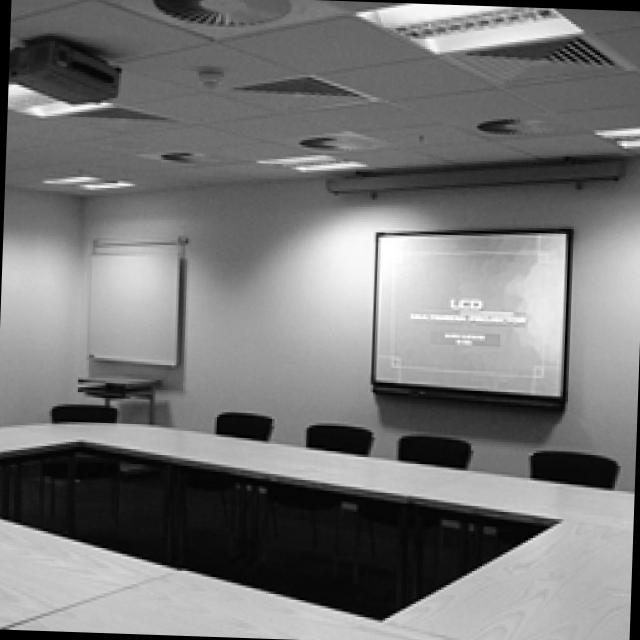air vent: (447, 31, 621, 86), (231, 67, 365, 108), (67, 103, 164, 130)
ceiling beam: (5, 0, 640, 197)
ceiling lamps: (353, 2, 580, 51), (253, 148, 363, 172), (40, 166, 125, 189)
chair: (525, 450, 613, 485), (393, 433, 466, 465), (298, 422, 369, 452), (212, 409, 267, 436), (44, 401, 112, 418)
conference table: (0, 418, 629, 640)
projection screen: (368, 226, 568, 408), (325, 151, 626, 190)
projector: (9, 35, 119, 106)
small table part: (75, 373, 153, 392)
speaker: (158, 0, 289, 25), (141, 140, 228, 168), (479, 111, 550, 132), (299, 129, 369, 148)
whiteboard: (84, 234, 180, 362)
